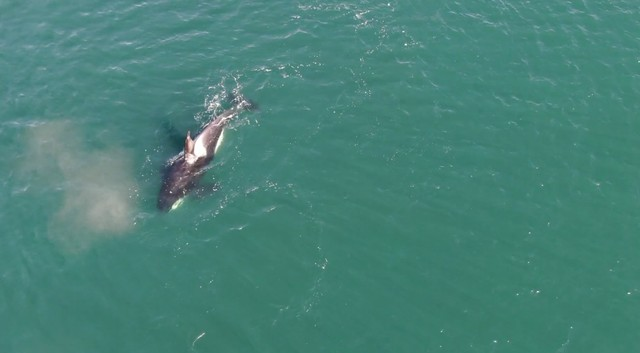whale: (151, 76, 263, 227)
